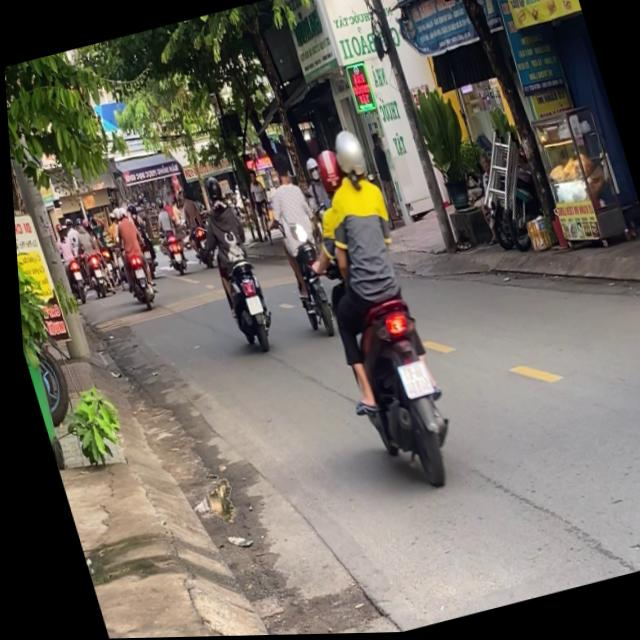helmet: (325, 125, 370, 186), (308, 146, 345, 198), (197, 173, 224, 208)
licenseplate: (271, 123, 465, 498), (240, 143, 343, 348), (184, 169, 278, 356)
motorcyclist: (264, 151, 291, 186)
nohelmet: (391, 359, 428, 399), (240, 294, 259, 316)
